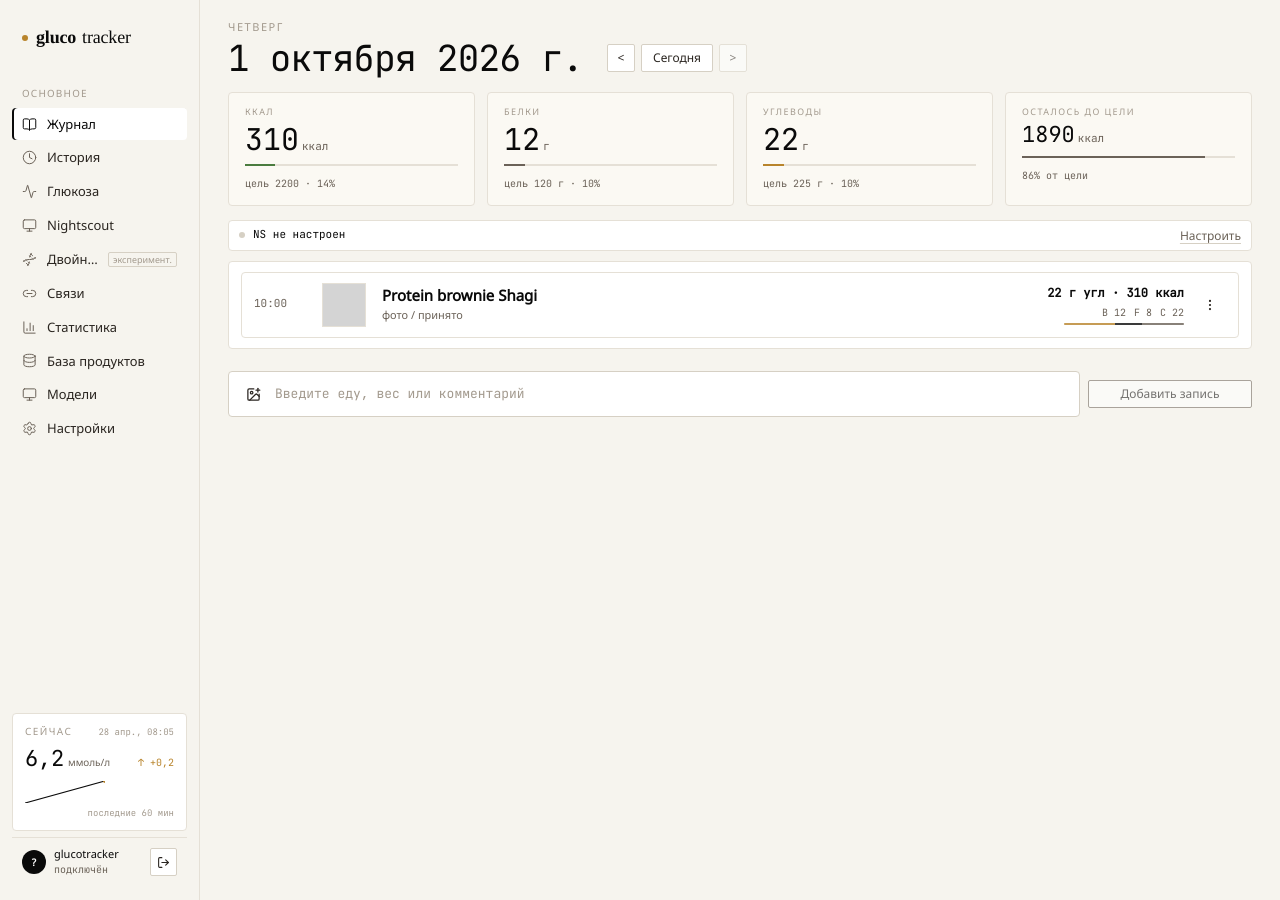
Test: journal row prefers database product image over original source photo
What coordinates should you click on to do the following:
click the text "Protein brownie Shagi"
I would click on:
 (460, 296)
Its box is [382, 286, 537, 306].
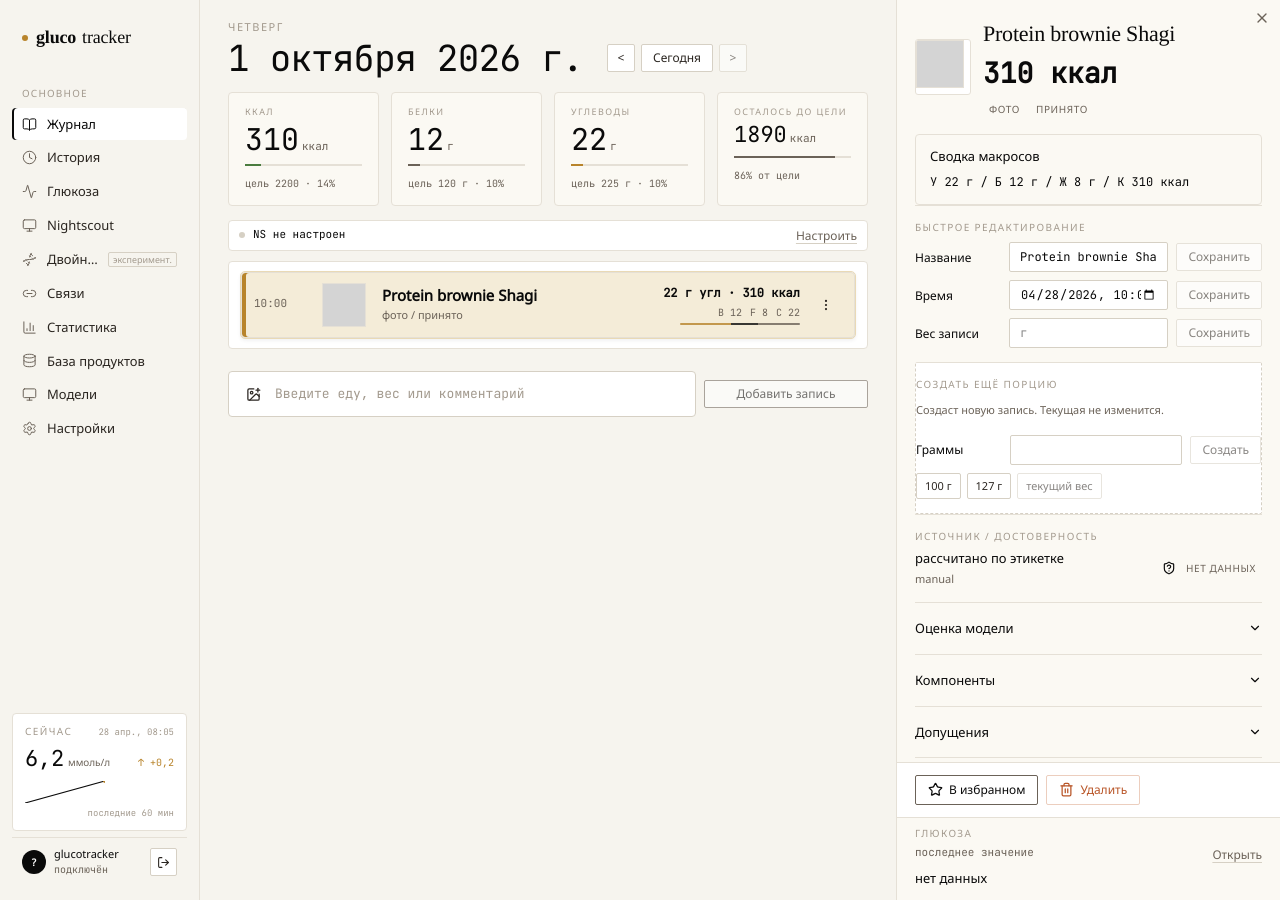
Now the heading "Protein brownie Shagi" is shown, box [983, 21, 1175, 46]
